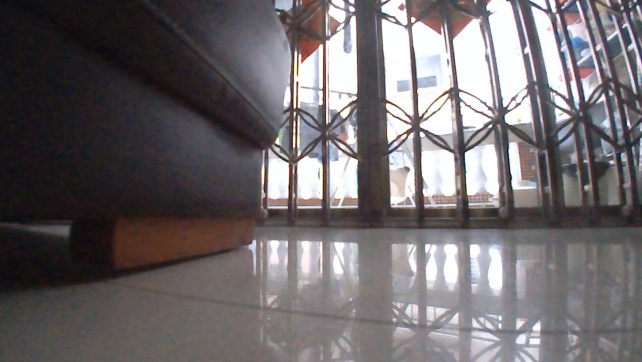sofa1: (0, 0, 294, 277)
